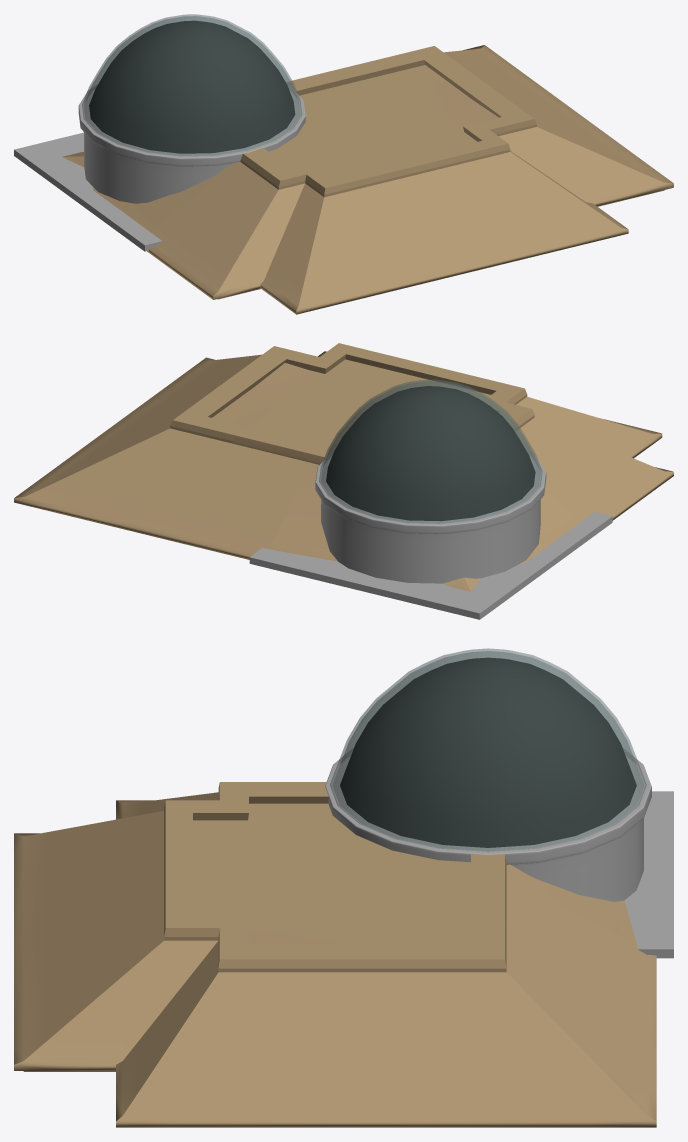
Rendered from Dome_InsideWithRoof2.fbx.
The picture shows the model from 3 angles, top to bottom: view 1: azimuth 30°, elevation 25°; view 2: azimuth 150°, elevation 25°; view 3: azimuth 270°, elevation 25°; orthographic projection. The views are drawn at different scales.
Visible parts, largest first — view 1: MansionRoof, Dome_Glass, Dome_Glass_Background_Exterior, Dome_Base, Dome_Inside_Roof; view 2: MansionRoof, Dome_Glass, Dome_Glass_Background_Exterior, Dome_Base, Dome_Inside_Roof; view 3: MansionRoof, Dome_Glass, Dome_Glass_Background_Exterior, Dome_Base, Dome_Inside_Roof.
Boxes of the visible parts, <box> form: MansionRoof: <box>62,45,673,314</box>; Dome_Glass: <box>82,14,302,156</box>; Dome_Glass_Background_Exterior: <box>89,20,295,153</box>; Dome_Base: <box>78,85,305,203</box>; Dome_Inside_Roof: <box>14,132,161,251</box>; MansionRoof: <box>14,343,673,591</box>; Dome_Glass: <box>319,379,542,523</box>; Dome_Glass_Background_Exterior: <box>326,386,535,521</box>; Dome_Base: <box>315,451,546,583</box>; Dome_Inside_Roof: <box>249,512,612,619</box>; MansionRoof: <box>14,782,656,1127</box>; Dome_Glass: <box>330,648,646,851</box>; Dome_Glass_Background_Exterior: <box>340,657,636,847</box>; Dome_Base: <box>325,748,651,901</box>; Dome_Inside_Roof: <box>624,791,673,958</box>.
Size of the model in its own units: 291 by 97.24 by 251.
